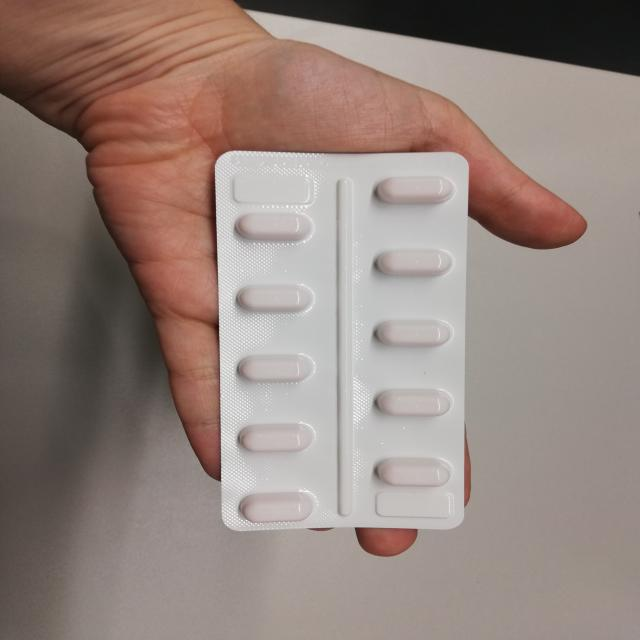Pill: (366, 446, 466, 497), (228, 274, 320, 322), (228, 482, 320, 529), (374, 161, 461, 210), (359, 239, 452, 283), (230, 204, 320, 249), (365, 311, 454, 354), (368, 386, 465, 425), (237, 414, 313, 462), (235, 348, 317, 390)
